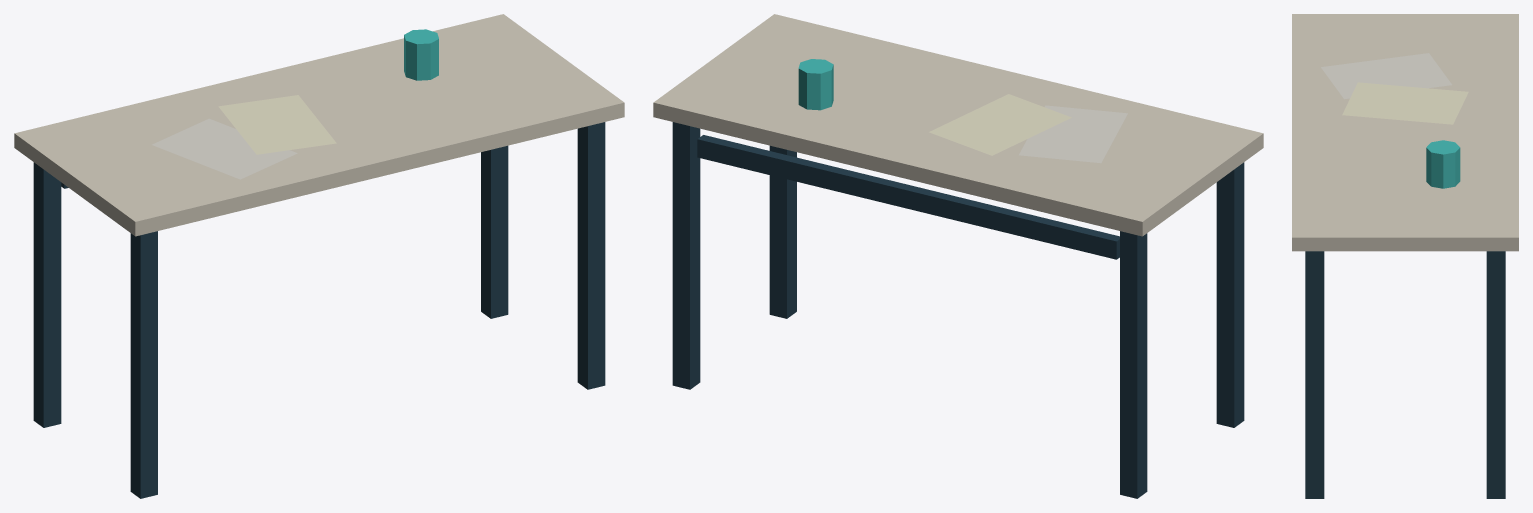
The model's file is mesa_lateral.glb.
3 renders of one model, left to right at view 1: azimuth 30°, elevation 25°; view 2: azimuth 150°, elevation 25°; view 3: azimuth 270°, elevation 25°, orthographic. The views are drawn at different scales.
Parts seen in each view (by area): view 1: mesa_lateral_malha; view 2: mesa_lateral_malha; view 3: mesa_lateral_malha.
Part boxes in pixels (x1,y1,x2,y2): mesa_lateral_malha: (14,14,624,498); mesa_lateral_malha: (653,14,1263,498); mesa_lateral_malha: (1292,14,1518,498).
Size of the model in its own units: 1.4 by 0.88 by 0.6.
